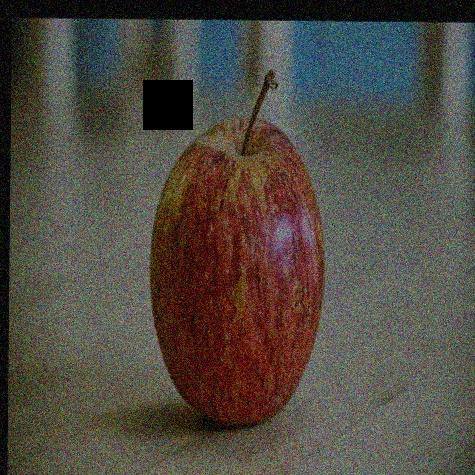red apple: (150, 111, 328, 426)
